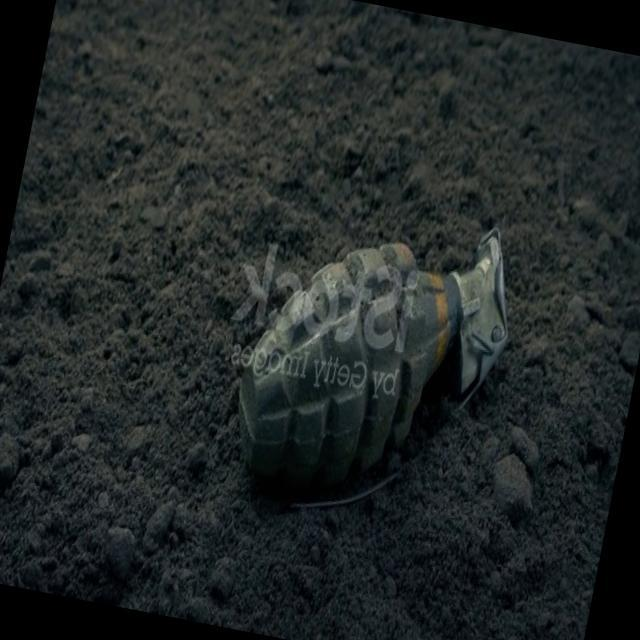grenade: (225, 199, 524, 527)
